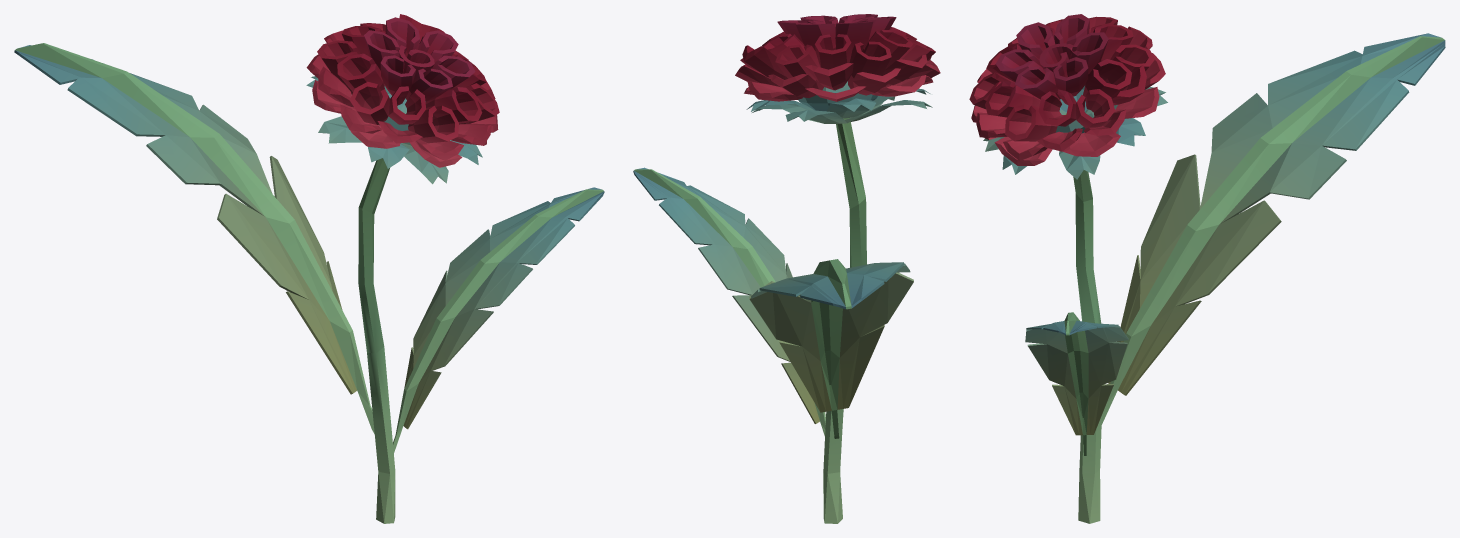
Rendered from Dahlia_Type02_Red.fbx.
3 views of the same model, side by side, from view 1: azimuth 30°, elevation 25°; view 2: azimuth 150°, elevation 25°; view 3: azimuth 270°, elevation 25° (orthographic).
Visible parts, largest first — view 1: Dahlia_Type02_Red; view 2: Dahlia_Type02_Red; view 3: Dahlia_Type02_Red.
Boxes of the visible parts, x1=… form: Dahlia_Type02_Red: x1=14, y1=14, x2=604, y2=523; Dahlia_Type02_Red: x1=633, y1=14, x2=940, y2=523; Dahlia_Type02_Red: x1=969, y1=14, x2=1445, y2=523.
Size of the model in its own units: 35.05 by 40.83 by 35.76.
